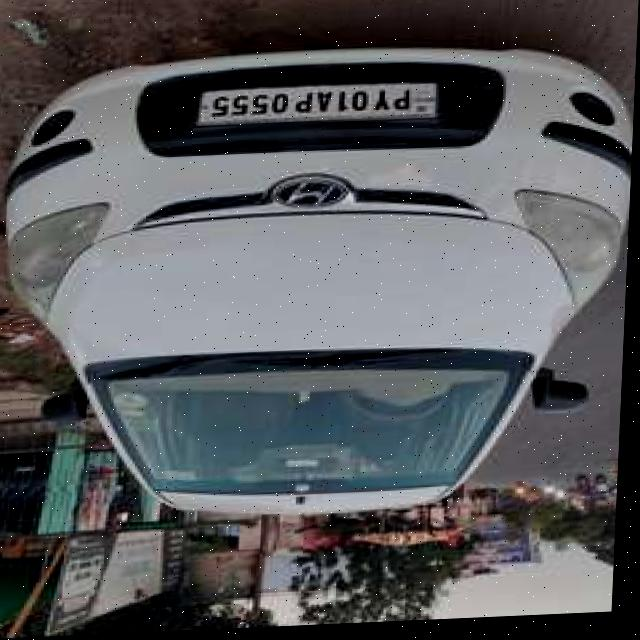plate: (202, 83, 440, 130)
